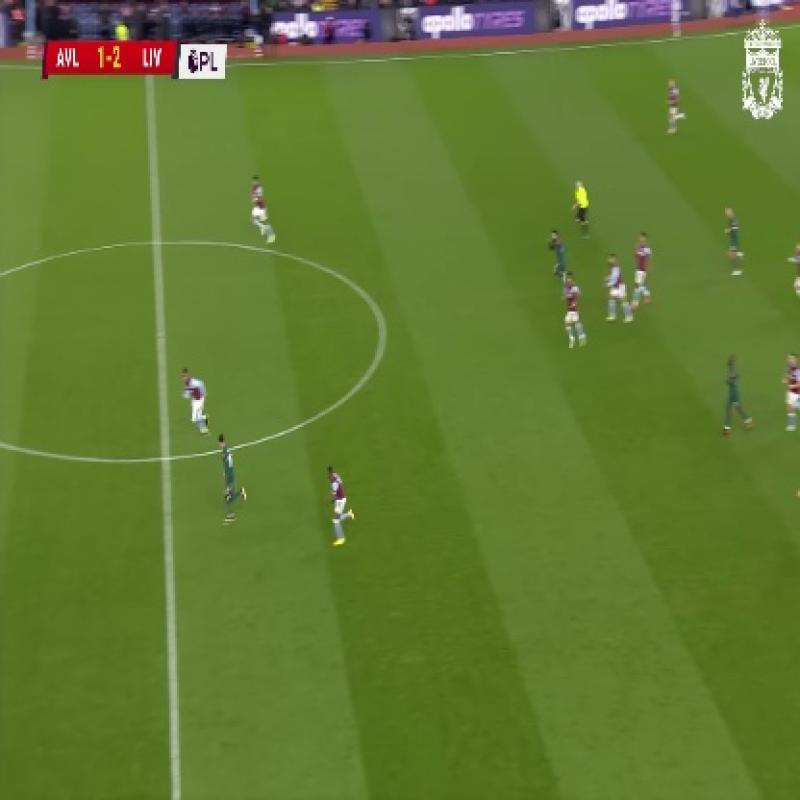13: (127, 46, 174, 86)
14: (137, 217, 173, 268)
15: (146, 432, 181, 482)
c: (357, 308, 411, 352)
